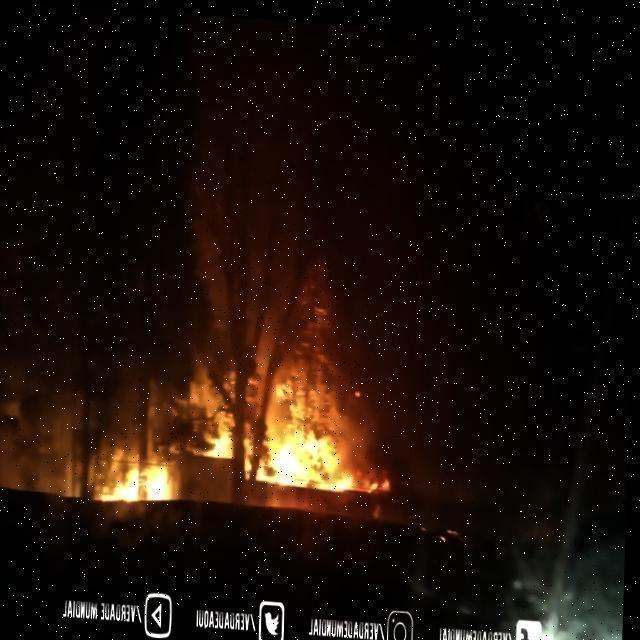Fire: (245, 347, 400, 492), (100, 451, 177, 501), (196, 394, 238, 454)
